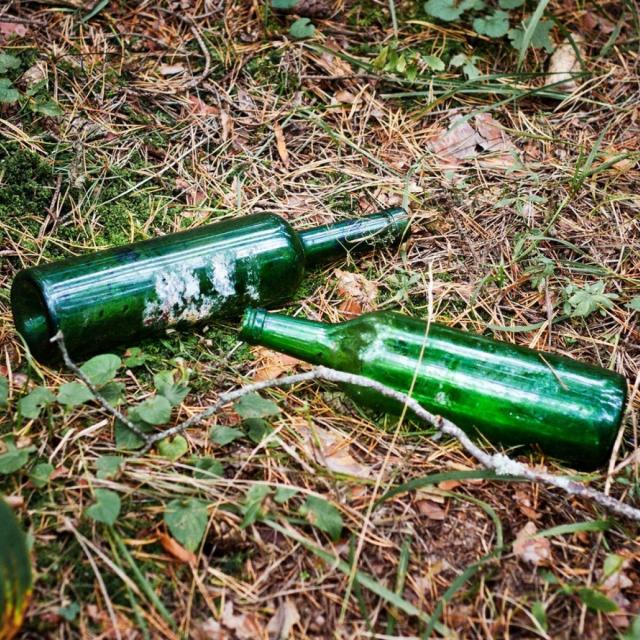non-organic waste: (232, 296, 634, 469), (11, 202, 414, 359)
